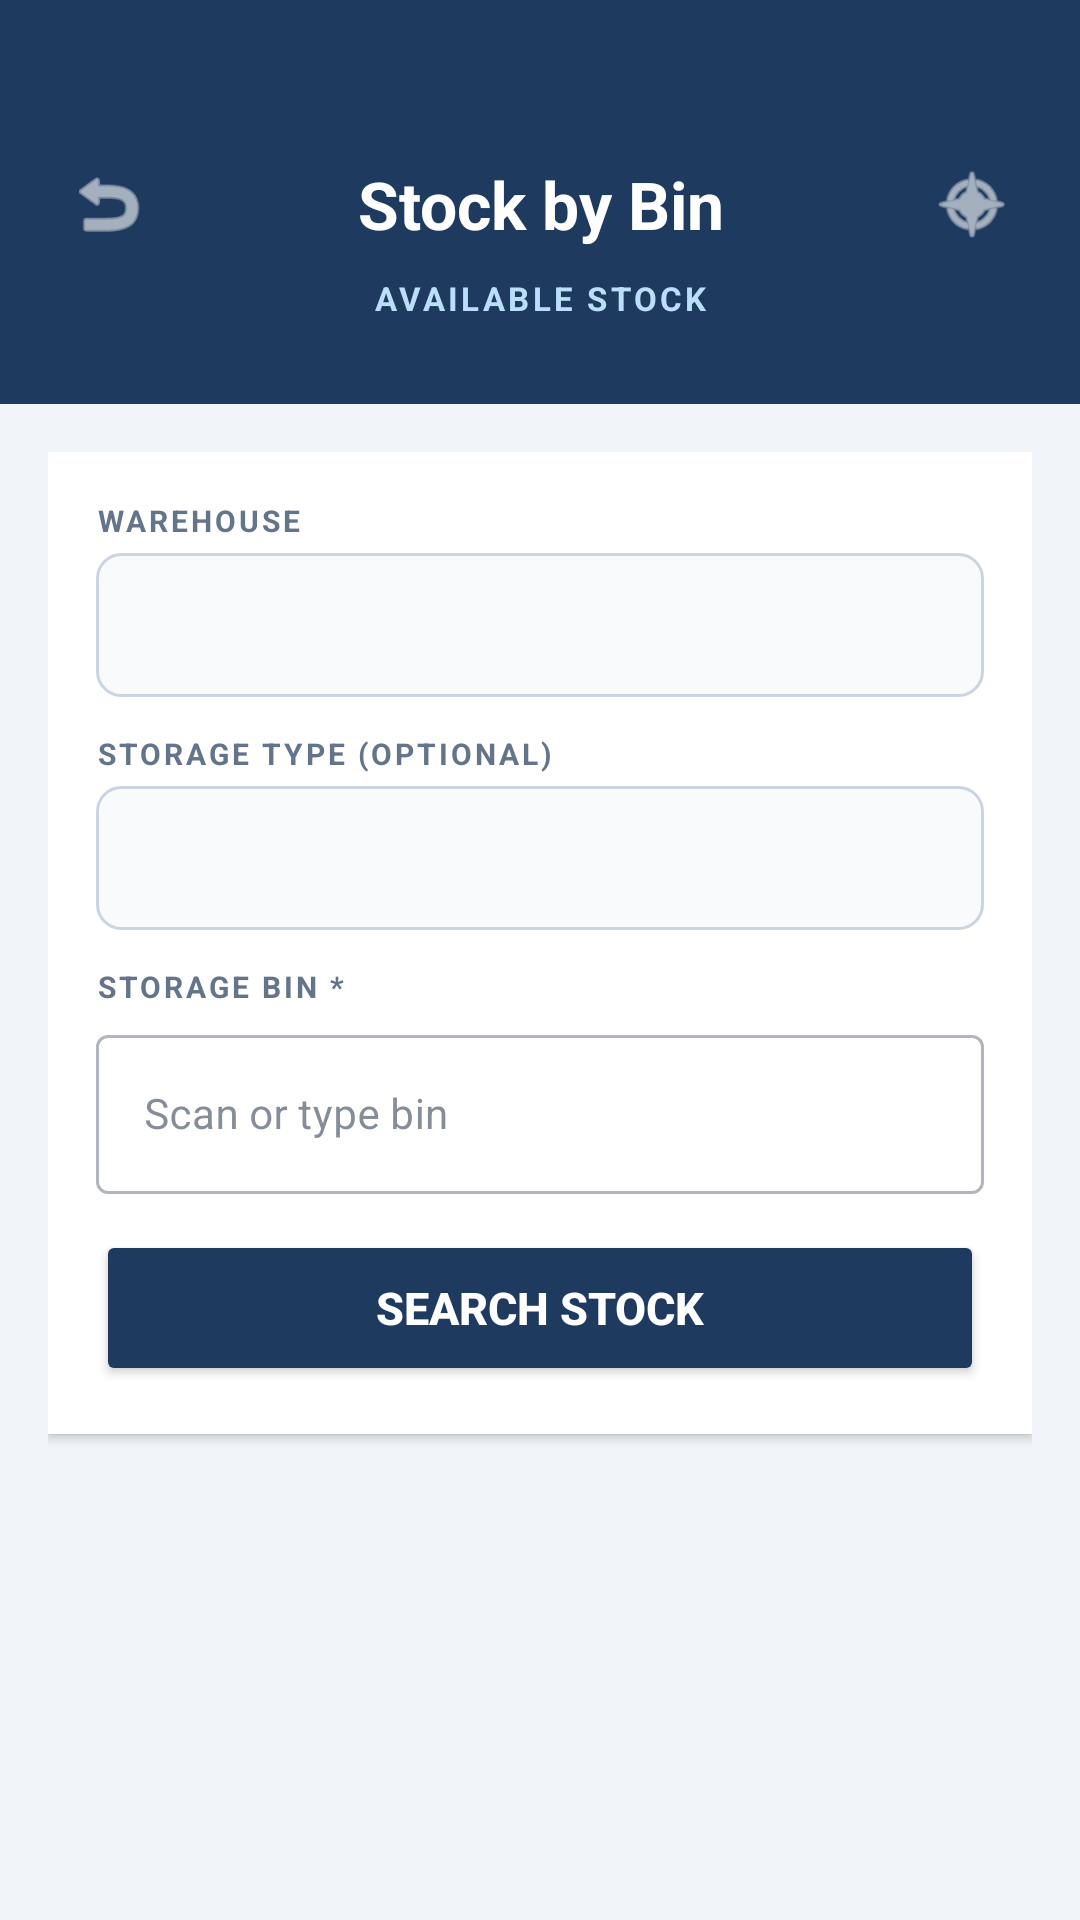

Screen size 1080*1920. Icon name, then its box in pixels as (x1, y1, x2, y2):
revert: (79, 177, 139, 232)
